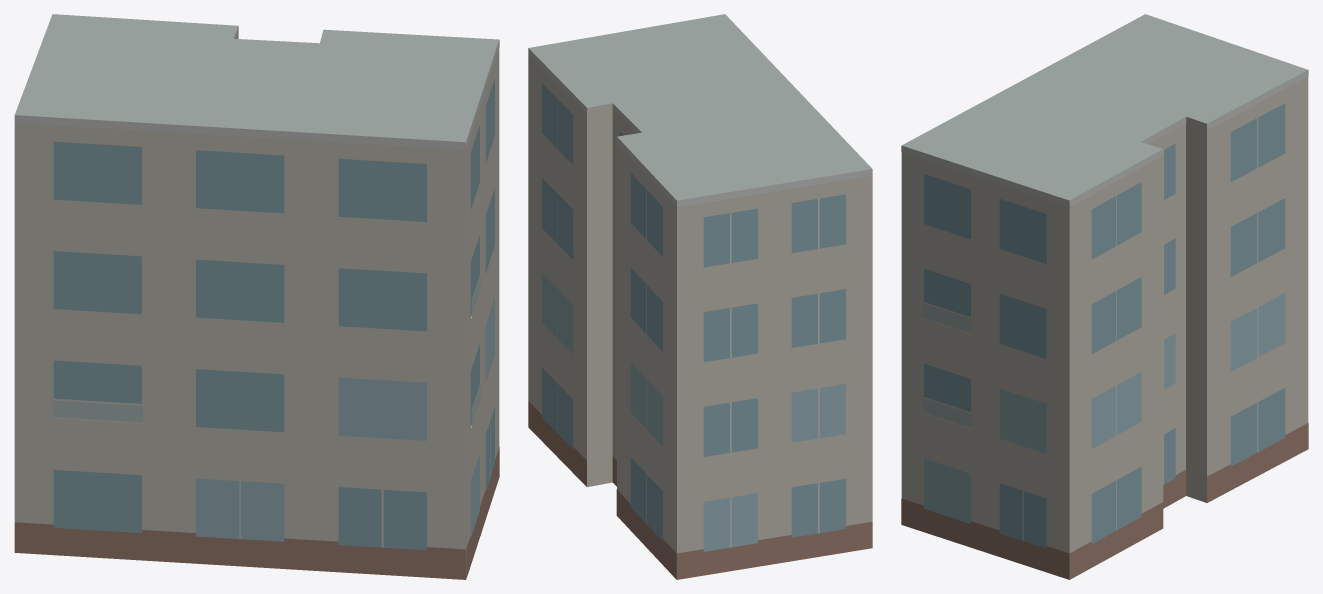
The model's file is survey-upis-32830856.glb.
3 renders of one model, left to right at view 1: azimuth 30°, elevation 25°; view 2: azimuth 150°, elevation 25°; view 3: azimuth 270°, elevation 25°, orthographic. The views are drawn at different scales.
Visible parts, largest first — view 1: survey-upis-32830856.tmp; view 2: survey-upis-32830856.tmp; view 3: survey-upis-32830856.tmp.
Boxes of the visible parts, x1,y1,x2,y2 form: survey-upis-32830856.tmp: (14, 14, 499, 579); survey-upis-32830856.tmp: (528, 14, 872, 579); survey-upis-32830856.tmp: (901, 14, 1308, 579).
Size of the model in its own units: 14.61 by 13.85 by 13.47.
